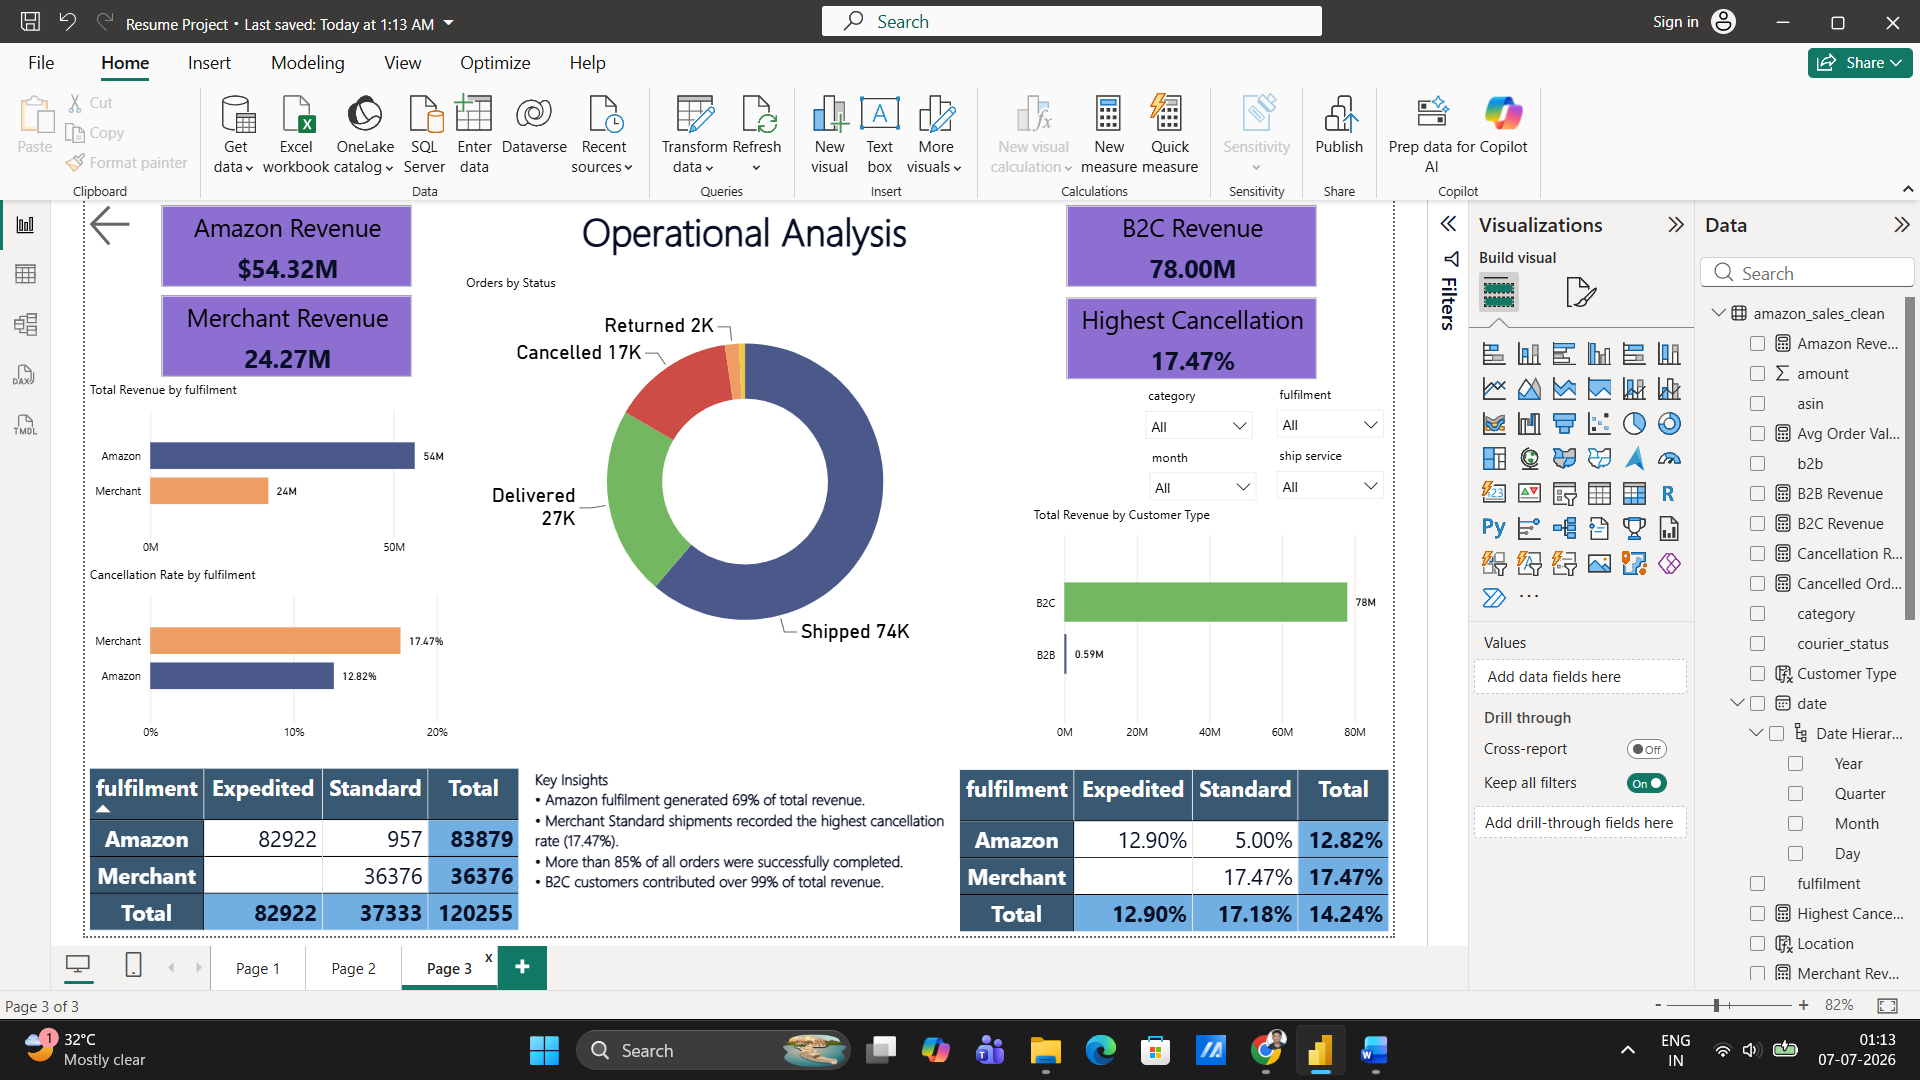

What the dashboard file says about the page in this screenshot:
{"tool":"powerbi","page":{"name":"Page 3","canvas":[1280,720],"ordinal":2},"visuals":[{"type":"textbox","box":[9.6,0,1270.7,60.4],"z":0},{"type":"cardVisual","fields":{"Data":["amazon_sales_clean.Amazon Revenue"]},"box":[70,0,255.2,90.6],"z":1000},{"type":"cardVisual","fields":{"Data":["amazon_sales_clean.Highest Cancellation"]},"box":[955.1,90.6,255.2,90.6],"z":2000},{"type":"cardVisual","fields":{"Data":["amazon_sales_clean.B2C Revenue"]},"box":[955.1,0,255.2,90.6],"z":3000},{"type":"pivotTable","fields":{"Rows":["amazon_sales_clean.fulfilment"],"Columns":["amazon_sales_clean.ship_service_level"],"Values":["amazon_sales_clean.Total Orders"]},"box":[0,551.6,435,168.8],"z":4000},{"type":"clusteredBarChart","fields":{"Category":["amazon_sales_clean.fulfilment"],"Y":["amazon_sales_clean.Cancellation Rate"]},"box":[0,358.1,367.8,179.8],"z":5000},{"type":"donutChart","title":"Orders by Status","fields":{"Category":["amazon_sales_clean.Order Status Group"],"Y":["amazon_sales_clean.Total Orders"]},"box":[367.8,72.7,555.7,391.1],"z":6000},{"type":"clusteredBarChart","fields":{"Category":["amazon_sales_clean.Customer Type"],"Y":["amazon_sales_clean.Total Revenue"]},"box":[923.5,299.1,356.8,238.8],"z":7000},{"type":"clusteredBarChart","fields":{"Category":["amazon_sales_clean.fulfilment"],"Y":["amazon_sales_clean.Total Revenue"]},"box":[0,177,367.8,179.8],"z":8000},{"type":"cardVisual","fields":{"Data":["amazon_sales_clean.Merchant Revenue"]},"box":[70,87.8,255.2,90.6],"z":9000},{"type":"slicer","fields":{"Values":["amazon_sales_clean.ship_service_level"]},"box":[1155.4,237.4,124.9,60.4],"z":10000},{"type":"slicer","fields":{"Values":["amazon_sales_clean.fulfilment"]},"box":[1155.4,177,124.9,60.4],"z":11000},{"type":"slicer","fields":{"Values":["amazon_sales_clean.category"]},"box":[1027.8,178.4,124.9,60.4],"z":12000},{"type":"slicer","fields":{"Values":["amazon_sales_clean.date.Variation.Date Hierarchy.Month"]},"box":[1030.5,238.8,124.9,60.4],"z":13000},{"type":"pivotTable","fields":{"Rows":["amazon_sales_clean.fulfilment"],"Columns":["amazon_sales_clean.ship_service_level"],"Values":["amazon_sales_clean.Cancellation Rate"]},"box":[850.8,553,429.5,167.4],"z":14000},{"type":"actionButton","box":[0,0,70,50],"z":15000},{"type":"textbox","box":[435,552,416,168],"z":16000}]}

Visuals, with their boxes on the page's 1280x720 design canvas (x1, y1, x2, y2). These are canvas units, not pixel positions in the 1920x1080 screenshot, which may show the page scaled, cropped or inside an application window:
textbox: bbox=[10, 0, 1280, 60]
cardVisual - amazon_sales_clean.Amazon Revenue: bbox=[70, 0, 325, 91]
cardVisual - amazon_sales_clean.Highest Cancellation: bbox=[955, 91, 1210, 181]
cardVisual - amazon_sales_clean.B2C Revenue: bbox=[955, 0, 1210, 91]
pivotTable - amazon_sales_clean.fulfilment x amazon_sales_clean.ship_service_level: bbox=[0, 552, 435, 720]
clusteredBarChart - amazon_sales_clean.fulfilment x amazon_sales_clean.Cancellation Rate: bbox=[0, 358, 368, 538]
"Orders by Status" donutChart: bbox=[368, 73, 924, 464]
clusteredBarChart - amazon_sales_clean.Customer Type x amazon_sales_clean.Total Revenue: bbox=[924, 299, 1280, 538]
clusteredBarChart - amazon_sales_clean.fulfilment x amazon_sales_clean.Total Revenue: bbox=[0, 177, 368, 357]
cardVisual - amazon_sales_clean.Merchant Revenue: bbox=[70, 88, 325, 178]
slicer - amazon_sales_clean.ship_service_level: bbox=[1155, 237, 1280, 298]
slicer - amazon_sales_clean.fulfilment: bbox=[1155, 177, 1280, 237]
slicer - amazon_sales_clean.category: bbox=[1028, 178, 1153, 239]
slicer - amazon_sales_clean.date.Variation.Date Hierarchy.Month: bbox=[1030, 239, 1155, 299]
pivotTable - amazon_sales_clean.fulfilment x amazon_sales_clean.ship_service_level: bbox=[851, 553, 1280, 720]
actionButton: bbox=[0, 0, 70, 50]
textbox: bbox=[435, 552, 851, 720]
